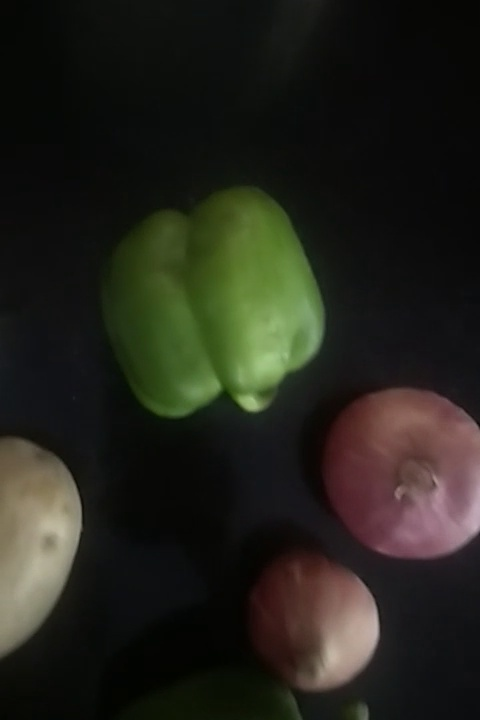capsicum: (93, 173, 327, 432)
onion: (324, 380, 480, 571), (253, 556, 384, 694)
potato: (1, 425, 69, 662)
